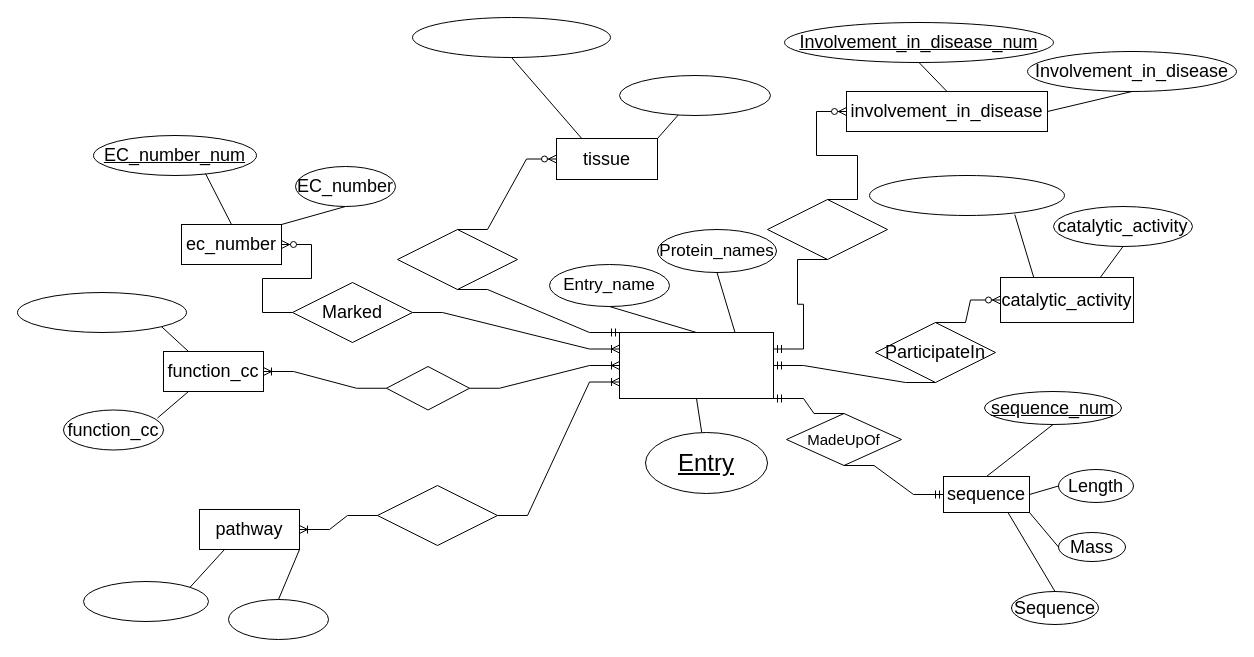
Image size: 1254x657. Some labels were removed from this diagram. The shapes that lost their labels are listed below. From the top down, each one's box as (x1, y1, x2, y2) in pixels, then its label:
(412, 16, 610, 58): tissue_specificity_num
(618, 74, 770, 116): tissue_specificity
(868, 174, 1064, 216): catalytic_activity_num
(766, 198, 888, 260): Cause
(396, 228, 518, 290): ExpressIn
(16, 292, 186, 332): function_CC_num
(618, 332, 774, 398): protein
(386, 366, 470, 410): Has
(376, 484, 498, 546): TakePartIn
(82, 580, 208, 622): pathway_num
(228, 598, 328, 640): path_way
